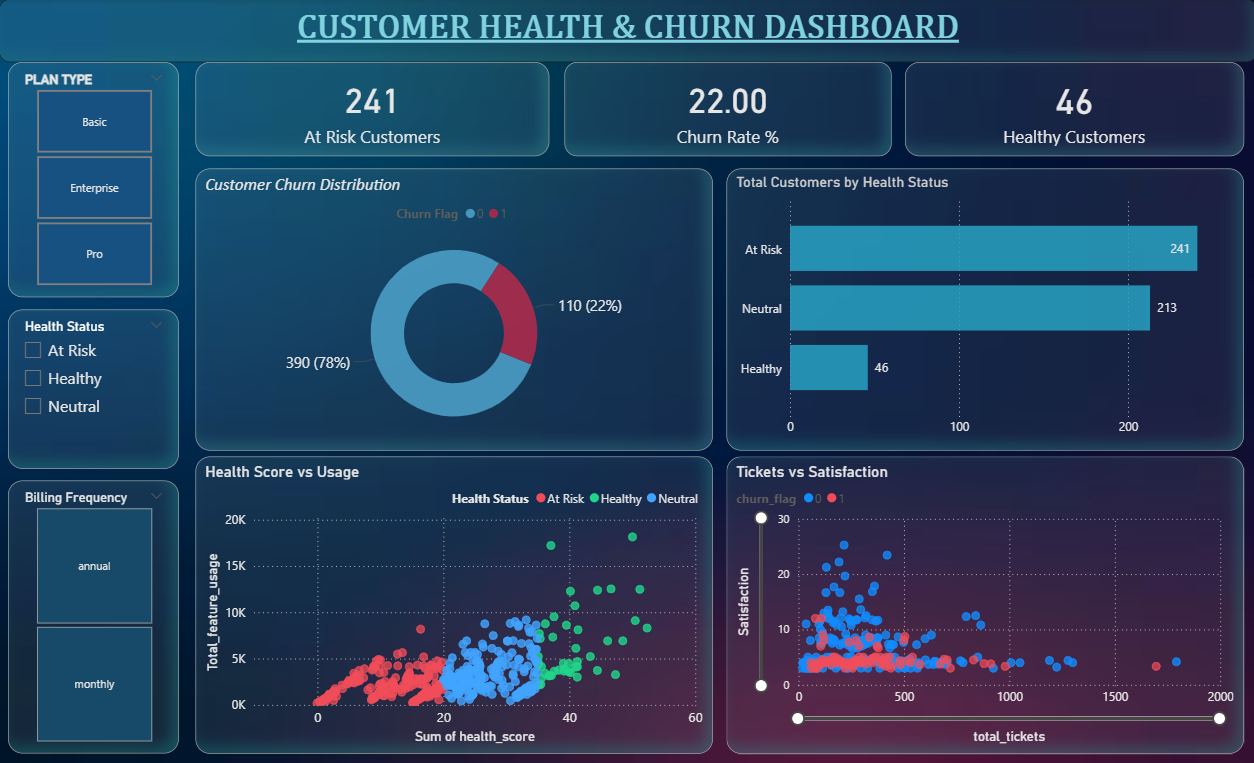

Layout of this report page (visuals, bound fields, positions):
{"tool":"powerbi","page":{"name":"Health&Churn","canvas":[1380,840],"ordinal":2},"visuals":[{"type":"textbox","box":[0,0,1380.1,69.1],"z":0},{"type":"card","fields":{"Values":["final_saas_dataset.At Risk Customers"]},"box":[215.5,69.1,388.2,103.6],"z":1000},{"type":"card","fields":{"Values":["final_saas_dataset.Healthy Customers"]},"box":[993.5,69.1,371.8,103.6],"z":2000},{"type":"donutChart","title":"Customer Churn Distribution","fields":{"Category":["final_saas_dataset.churn_flag"],"Y":["final_saas_dataset.Total Customers"]},"box":[215.5,185.9,567.5,309.2],"z":3000},{"type":"clusteredBarChart","title":"Total Customers by Health Status","fields":{"Category":["final_saas_dataset.health_status"],"Y":["final_saas_dataset.Total Customers"]},"box":[797.8,185.9,567.5,309.2],"z":4000},{"type":"scatterChart","title":"Health Score vs Usage","fields":{"X":["Sum(final_saas_dataset.health_score)"],"Y":["Sum(final_saas_dataset.total_feature_usage)"],"Series":["final_saas_dataset.health_status"],"Category":["final_saas_dataset.total_arr"]},"box":[215.5,501.7,567.5,325.7],"z":5000},{"type":"scatterChart","title":"Tickets vs Satisfaction","fields":{"X":["final_saas_dataset.total_tickets"],"Y":["Sum(final_saas_dataset.avg_satisfaction)"],"Series":["final_saas_dataset.churn_flag"]},"box":[797.8,501.7,567.5,325.7],"z":6000},{"type":"slicer","fields":{"Values":["final_saas_dataset.health_status"]},"box":[9.9,340.5,187.5,174.4],"z":7000},{"type":"slicer","fields":{"Values":["final_saas_dataset.plan_type"]},"box":[9.9,69.1,187.5,258.3],"z":8000},{"type":"slicer","fields":{"Values":["final_saas_dataset.billing_frequency"]},"box":[9.9,528,187.5,299.4],"z":9000},{"type":"card","fields":{"Values":["final_saas_dataset.Churn Rate %"]},"box":[620.1,69.1,358.6,103.6],"z":10000}]}

Visuals, with their boxes in screenshot pixels (x1, y1, x2, y2), scaled from the page's 1380x840 canvas onto the 1254x763 screenshot:
textbox: select_region(0, 0, 1253, 63)
card - final_saas_dataset.At Risk Customers: select_region(196, 63, 549, 157)
card - final_saas_dataset.Healthy Customers: select_region(903, 63, 1241, 157)
"Customer Churn Distribution" donutChart: select_region(196, 169, 712, 450)
"Total Customers by Health Status" clusteredBarChart: select_region(725, 169, 1241, 450)
"Health Score vs Usage" scatterChart: select_region(196, 456, 712, 752)
"Tickets vs Satisfaction" scatterChart: select_region(725, 456, 1241, 752)
slicer - final_saas_dataset.health_status: select_region(9, 309, 179, 468)
slicer - final_saas_dataset.plan_type: select_region(9, 63, 179, 297)
slicer - final_saas_dataset.billing_frequency: select_region(9, 480, 179, 752)
card - final_saas_dataset.Churn Rate %: select_region(563, 63, 889, 157)
